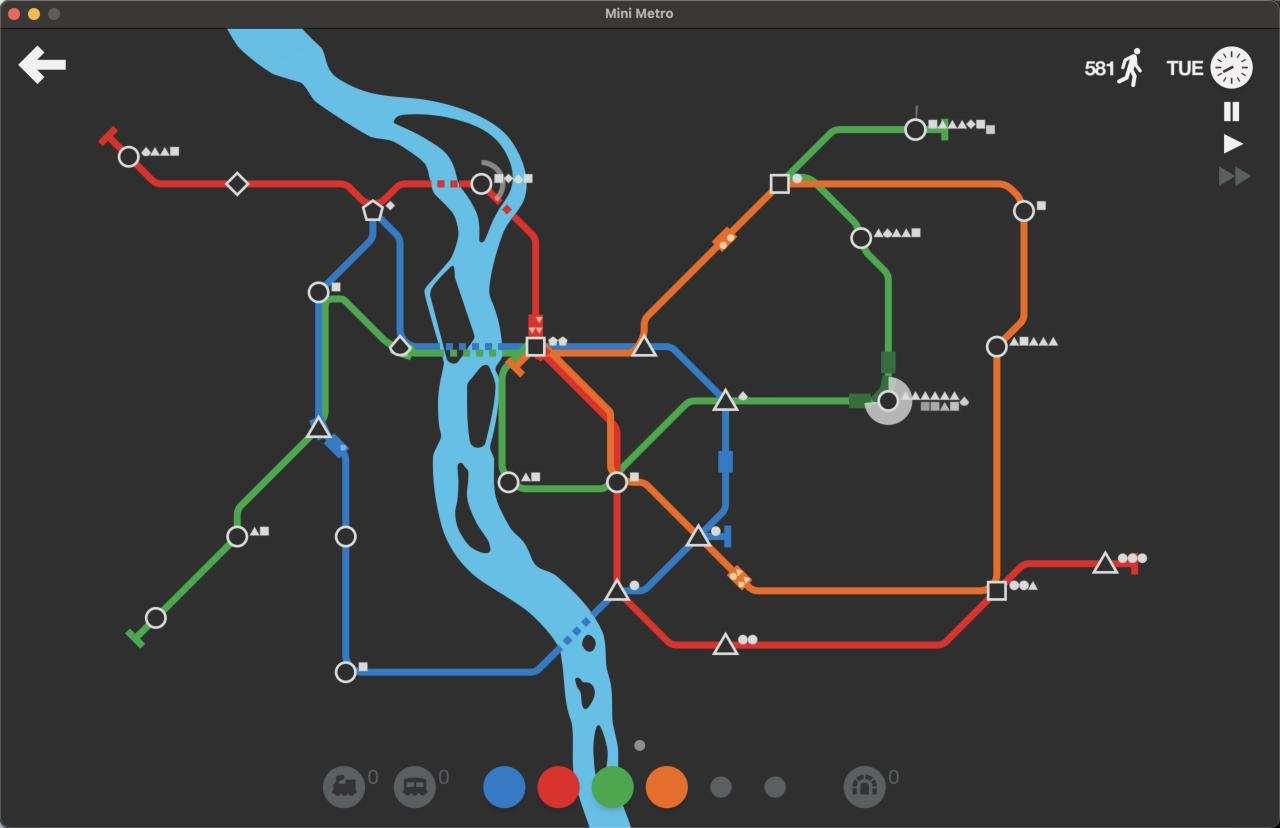CIRCLE: (903, 117, 927, 142), (985, 334, 1009, 359), (470, 171, 493, 195), (307, 280, 330, 304), (117, 145, 140, 168), (334, 661, 357, 684), (849, 227, 872, 250), (606, 470, 629, 493), (334, 525, 357, 548), (1013, 200, 1036, 222), (145, 606, 167, 629), (497, 471, 519, 494), (226, 525, 248, 548), (877, 390, 899, 412)
GEM: (225, 171, 250, 197)
PENTAGON: (361, 199, 384, 221)
SQUARE: (986, 580, 1008, 602), (769, 173, 791, 194), (525, 335, 546, 357)
TRIANGLE: (711, 631, 740, 657), (1091, 549, 1119, 574), (684, 522, 711, 547), (712, 387, 739, 411), (630, 333, 657, 357), (305, 416, 331, 439), (604, 578, 630, 601)
WEDGE: (389, 334, 412, 358)
